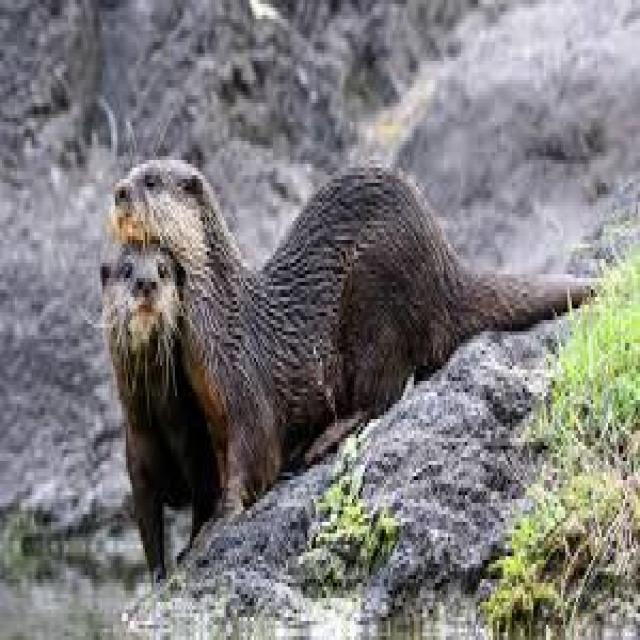Otter: (111, 147, 584, 460), (100, 241, 219, 557)
